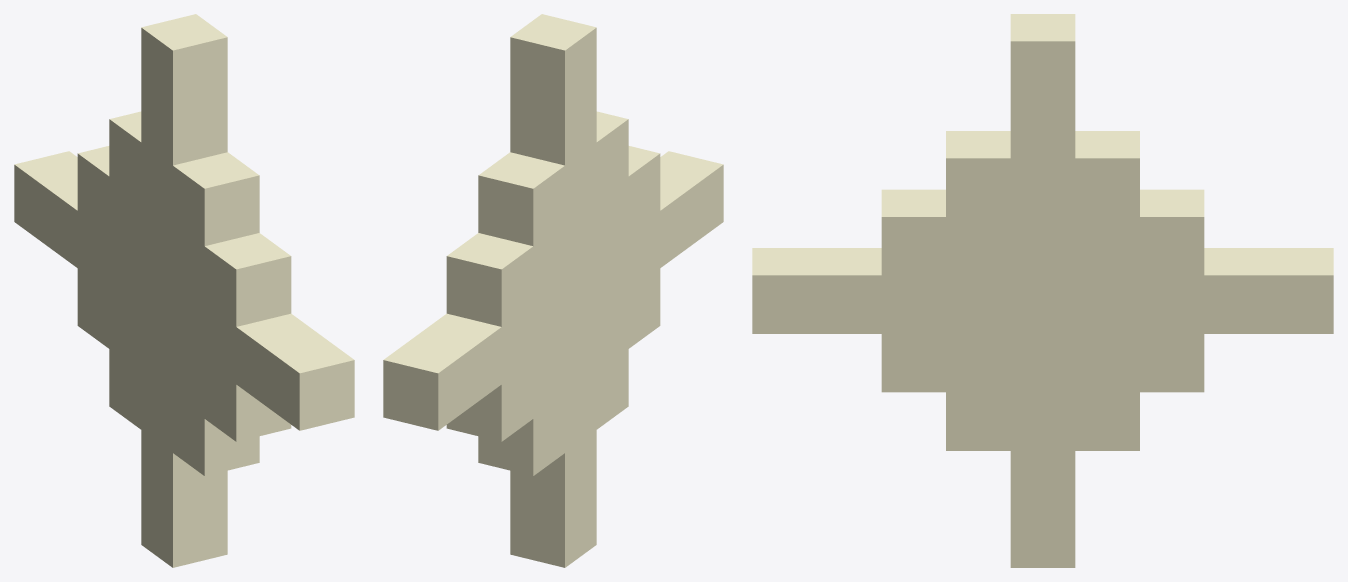
File: estrelasflat-2.obj
The picture shows the model from 3 angles, left to right: view 1: azimuth 30°, elevation 25°; view 2: azimuth 150°, elevation 25°; view 3: azimuth 270°, elevation 25°; orthographic projection.
Size of the model in its own units: 0.1 by 0.9 by 0.9.
1 material, 1 textured.
